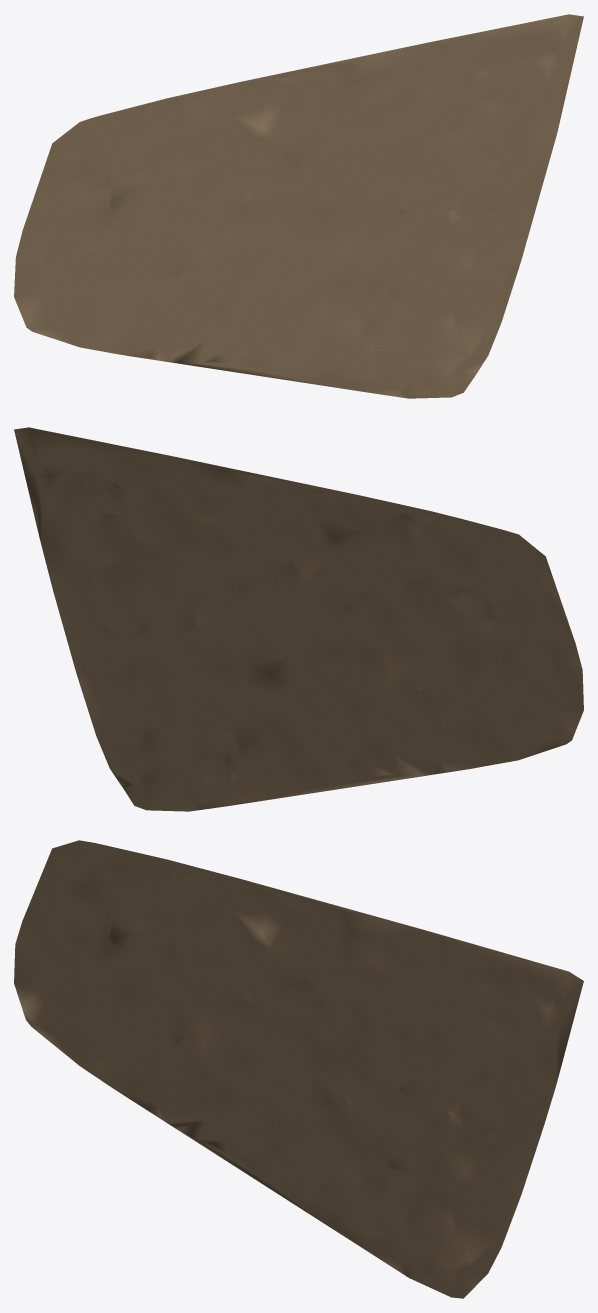
3 renders of one model, top to bottom at view 1: azimuth 30°, elevation 25°; view 2: azimuth 150°, elevation 25°; view 3: azimuth 330°, elevation 25°, orthographic.
Parts seen in each view (by area): view 1: aai_field_north_farm; view 2: aai_field_north_farm; view 3: aai_field_north_farm.
Part boxes in pixels (bbox=[...]): aai_field_north_farm: bbox=[14, 14, 583, 398]; aai_field_north_farm: bbox=[14, 427, 583, 811]; aai_field_north_farm: bbox=[14, 840, 583, 1298].
Size of the model in its own units: 269 by 166 by 0.5337.
1 material, 1 textured.
